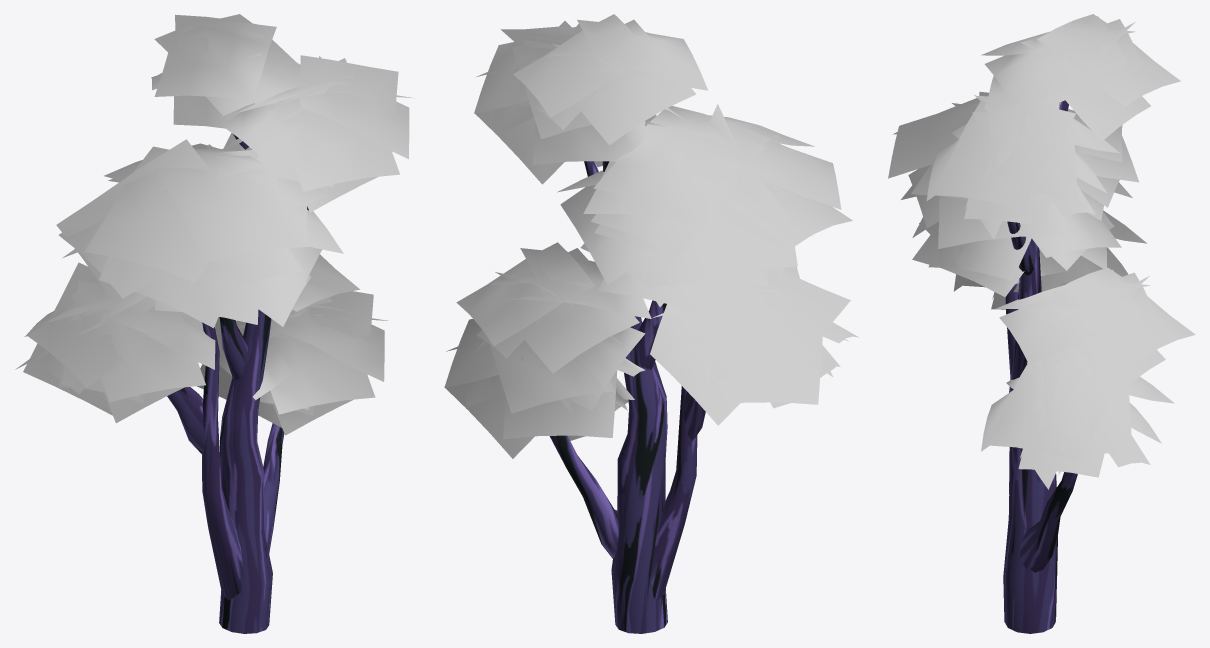
Rendered from Lushtree_04.fbx.
3 views of the same model, side by side, from view 1: azimuth 30°, elevation 25°; view 2: azimuth 150°, elevation 25°; view 3: azimuth 270°, elevation 25° (orthographic). The views are drawn at different scales.
Visible parts, largest first — view 1: lushleaf_04, Lushtree_04; view 2: lushleaf_04, Lushtree_04; view 3: lushleaf_04, Lushtree_04.
Boxes of the visible parts, x1=… form: lushleaf_04: x1=15, y1=14, x2=414, y2=435; Lushtree_04: x1=167, y1=134, x2=308, y2=633; lushleaf_04: x1=444, y1=14, x2=858, y2=458; Lushtree_04: x1=549, y1=161, x2=705, y2=633; lushleaf_04: x1=888, y1=14, x2=1195, y2=489; Lushtree_04: x1=1003, y1=100, x2=1077, y2=633.
Bounding box in the file's own units: 344 × 520 × 244.
